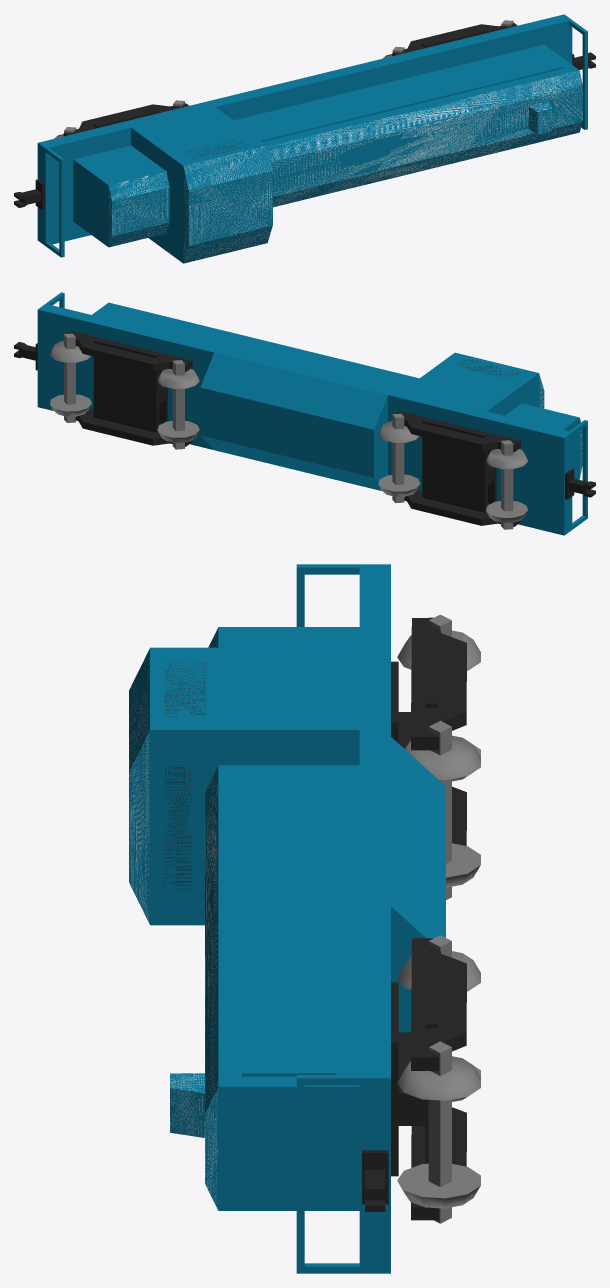
The model's file is locomotive_1_right.dae.
3 renders of one model, top to bottom at view 1: azimuth 30°, elevation 25°; view 2: azimuth 150°, elevation 25°; view 3: azimuth 270°, elevation 25°, orthographic. The views are drawn at different scales.
Parts seen in each view (by area): view 1: coords_ME_ID93_MA_Locomotive, coords_ME_ID109_MA_Locomotive, coords_ME_ID101_MA_Locomotive, coords_ME_ID109_MA_Top, coords_ME_ID129_MA_Locomotive, coords_ME_ID147_MA_Locomotive, coords_ME_ID101_MA_Top, coords_ME_ID147_MA_Top, coords_ME_ID67_MA_Frame, coords_ME_ID204_MA_Frame, coords_ME_ID135_MA_Locomotive, coords_ME_ID121_MA_Locomotive (+3 smaller); view 2: coords_ME_ID93_MA_Locomotive, coords_ME_ID198_MA_Frame, coords_ME_ID59_MA_Frame, coords_ME_ID129_MA_Locomotive, coords_ME_ID204_MA_Frame, coords_ME_ID67_MA_Frame, coords_ME_ID73_MA_Frame, coords_ME_ID210_MA_Frame, coords_ME_ID40_MA_Wheels, coords_ME_ID179_MA_Wheels, coords_ME_ID34_MA_Wheels, coords_ME_ID173_MA_Wheels (+10 smaller); view 3: coords_ME_ID93_MA_Locomotive, coords_ME_ID129_MA_Locomotive, coords_ME_ID109_MA_Locomotive, coords_ME_ID67_MA_Frame, coords_ME_ID204_MA_Frame, coords_ME_ID101_MA_Locomotive, coords_ME_ID198_MA_Frame, coords_ME_ID153_MA_Locomotive, coords_ME_ID173_MA_Wheels, coords_ME_ID161_MA_Wheels, coords_ME_ID121_MA_Locomotive, coords_ME_ID191_MA_Wheels (+9 smaller).
Part boxes in pixels (x1=…): coords_ME_ID93_MA_Locomotive: x1=37, y1=14, x2=587, y2=262; coords_ME_ID109_MA_Locomotive: x1=268, y1=70, x2=582, y2=207; coords_ME_ID101_MA_Locomotive: x1=183, y1=145, x2=272, y2=263; coords_ME_ID109_MA_Top: x1=268, y1=71, x2=582, y2=206; coords_ME_ID129_MA_Locomotive: x1=238, y1=49, x2=563, y2=141; coords_ME_ID147_MA_Locomotive: x1=108, y1=171, x2=169, y2=247; coords_ME_ID101_MA_Top: x1=183, y1=146, x2=272, y2=261; coords_ME_ID147_MA_Top: x1=108, y1=172, x2=169, y2=245; coords_ME_ID67_MA_Frame: x1=63, y1=103, x2=188, y2=136; coords_ME_ID204_MA_Frame: x1=392, y1=23, x2=517, y2=56; coords_ME_ID135_MA_Locomotive: x1=528, y1=101, x2=552, y2=134; coords_ME_ID121_MA_Locomotive: x1=183, y1=138, x2=249, y2=159; coords_ME_ID93_MA_Locomotive: x1=37, y1=292, x2=587, y2=535; coords_ME_ID198_MA_Frame: x1=93, y1=338, x2=167, y2=432; coords_ME_ID59_MA_Frame: x1=422, y1=418, x2=496, y2=512; coords_ME_ID129_MA_Locomotive: x1=100, y1=307, x2=414, y2=390; coords_ME_ID204_MA_Frame: x1=67, y1=330, x2=192, y2=372; coords_ME_ID67_MA_Frame: x1=395, y1=411, x2=520, y2=452; coords_ME_ID73_MA_Frame: x1=404, y1=490, x2=520, y2=526; coords_ME_ID210_MA_Frame: x1=75, y1=410, x2=192, y2=446; coords_ME_ID40_MA_Wheels: x1=501, y1=440, x2=513, y2=529; coords_ME_ID179_MA_Wheels: x1=172, y1=360, x2=184, y2=449; coords_ME_ID34_MA_Wheels: x1=392, y1=413, x2=404, y2=503; coords_ME_ID173_MA_Wheels: x1=64, y1=333, x2=75, y2=422; coords_ME_ID93_MA_Locomotive: x1=150, y1=564, x2=445, y2=1273; coords_ME_ID129_MA_Locomotive: x1=242, y1=772, x2=335, y2=1076; coords_ME_ID109_MA_Locomotive: x1=205, y1=766, x2=218, y2=1209; coords_ME_ID67_MA_Frame: x1=411, y1=617, x2=466, y2=750; coords_ME_ID204_MA_Frame: x1=411, y1=938, x2=466, y2=1070; coords_ME_ID101_MA_Locomotive: x1=129, y1=648, x2=149, y2=924; coords_ME_ID198_MA_Frame: x1=391, y1=963, x2=437, y2=1176; coords_ME_ID153_MA_Locomotive: x1=164, y1=765, x2=191, y2=889; coords_ME_ID173_MA_Wheels: x1=428, y1=1041, x2=451, y2=1223; coords_ME_ID161_MA_Wheels: x1=397, y1=1163, x2=480, y2=1208; coords_ME_ID121_MA_Locomotive: x1=164, y1=661, x2=206, y2=716; coords_ME_ID191_MA_Wheels: x1=397, y1=1056, x2=480, y2=1100.
Bounding box in the file's own units: 170 × 27.5 × 44.89.
